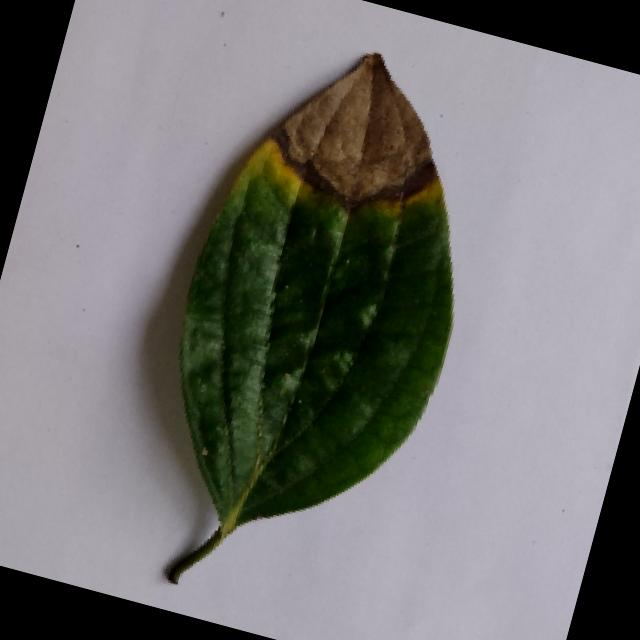footrot: (108, 15, 520, 630)
